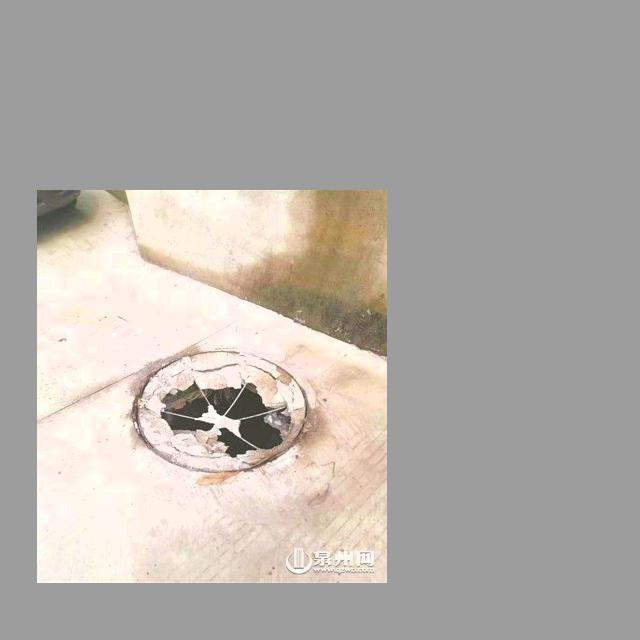broke: (116, 337, 335, 492)
